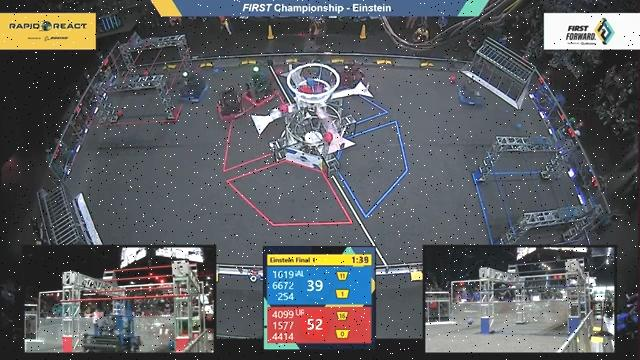Robot: (209, 84, 248, 123), (240, 70, 280, 107), (174, 71, 211, 104), (454, 74, 485, 108), (336, 60, 366, 92)
